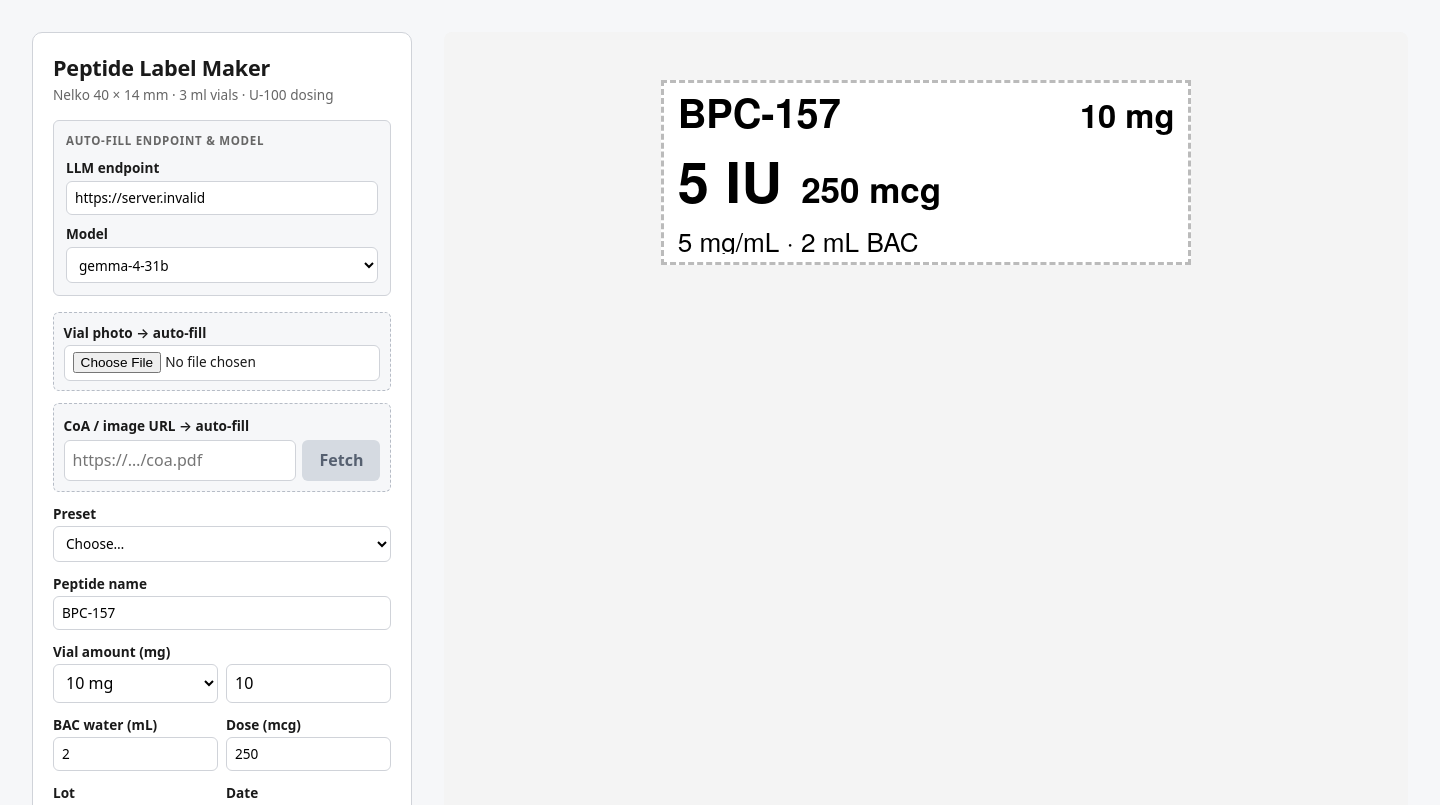
App › uses the CoA vial mg over the dropdown default
Expected: the number field named "Vial mg" holds "10", [226,664,391,703]
Type "https://coa.vendor.com/a.pdf" into the field named "CoA / image URL → auto-fill".
click(180, 460); type("https://coa.vendor.com/a.pdf")  # box [64,440,296,481]
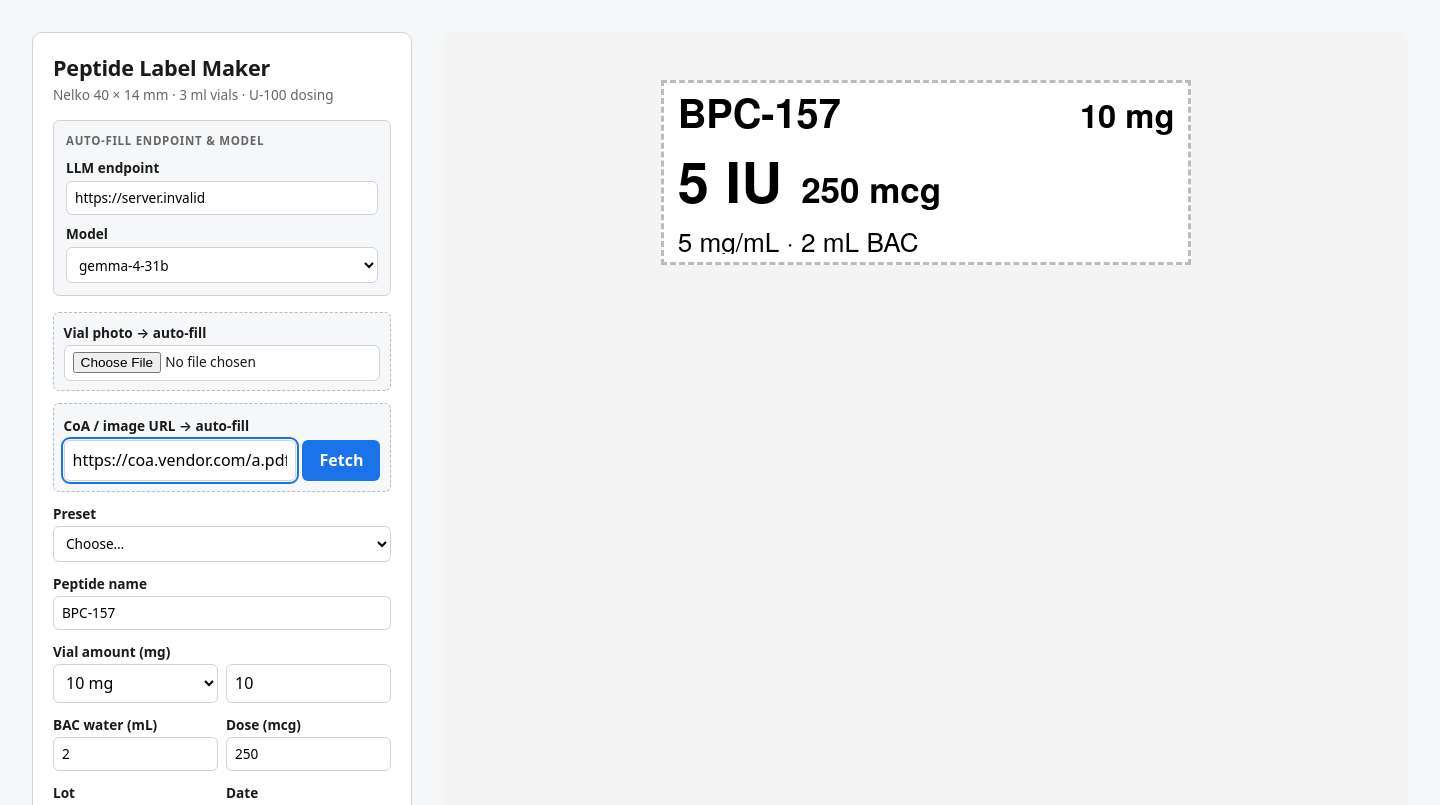
Click the button "Fetch".
click(341, 460)  # box [302,440,380,481]
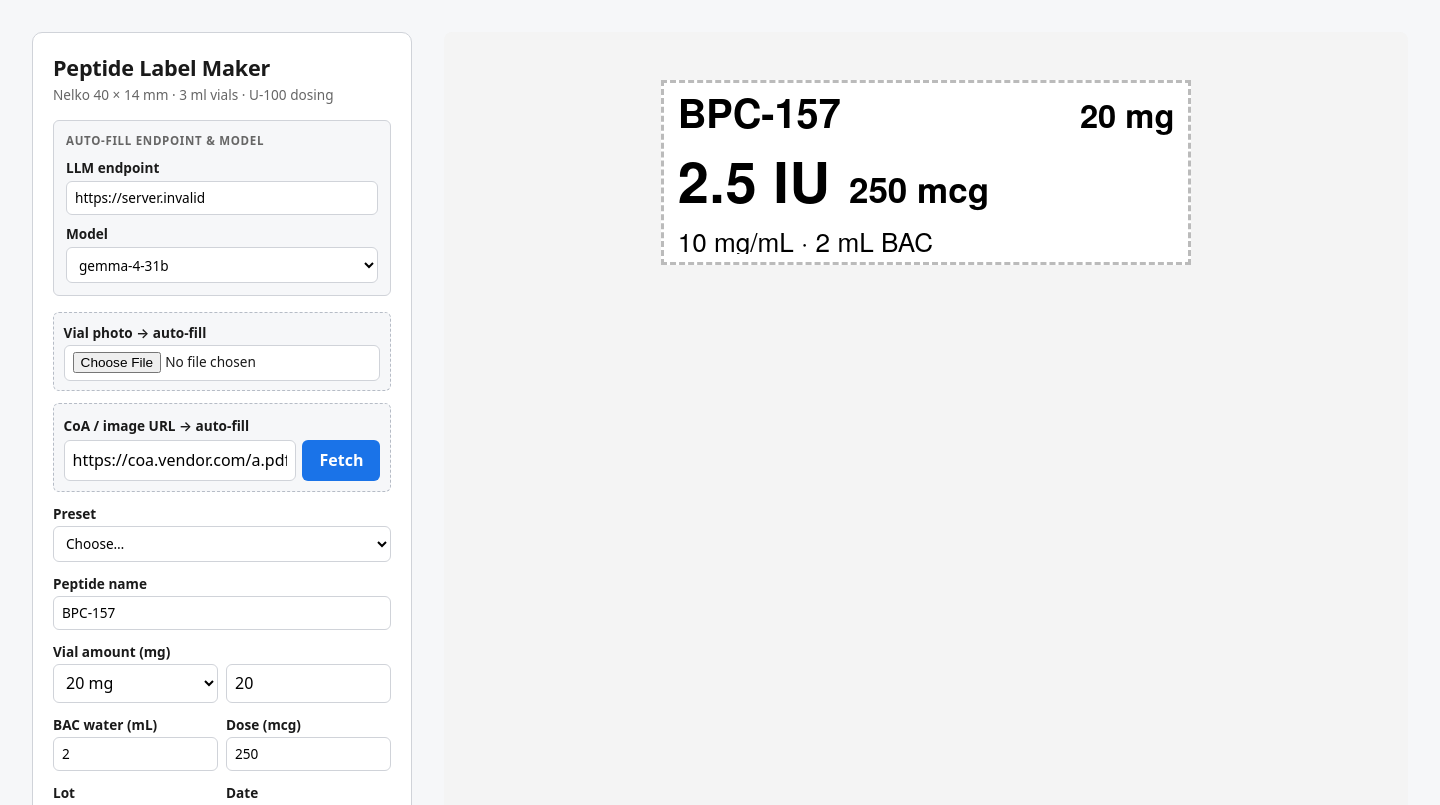
Expected: the number field named "Vial mg" holds "20", [226,664,391,703]
